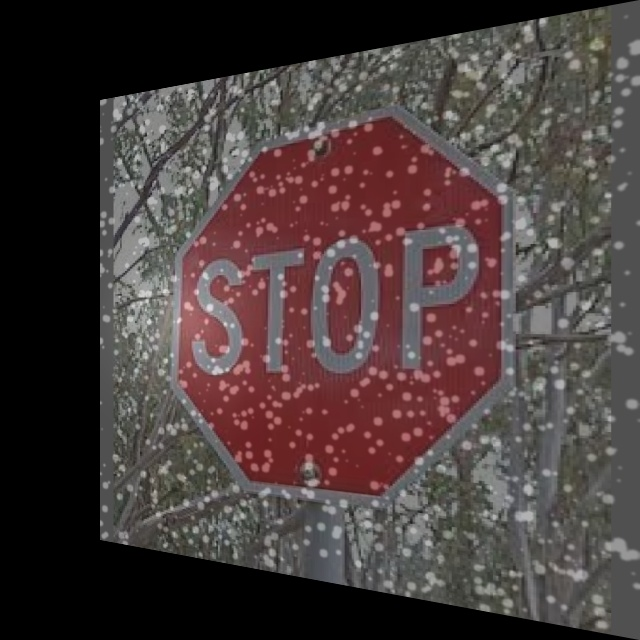Stop: (174, 91, 514, 525)
